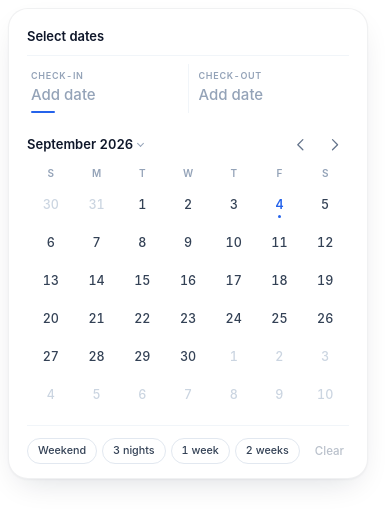
Scenario: DatePicker: selection › counts days instead of nights under `days` semantics
What coordinates should you click on to do the following:
click the 1st cell "4"
I would click on:
 (279, 204)
Its box is [257, 186, 302, 222].
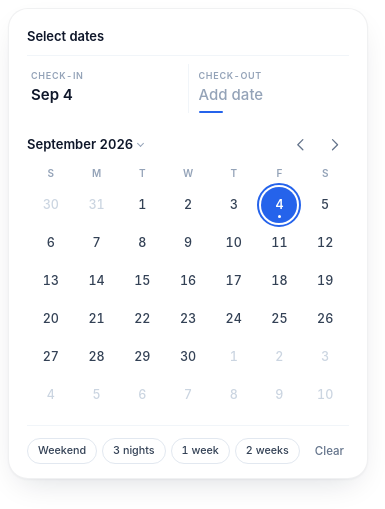
What coordinates should you click on to do the following:
click the cell "11"
I would click on:
 (279, 242)
Its box is [257, 224, 302, 260].
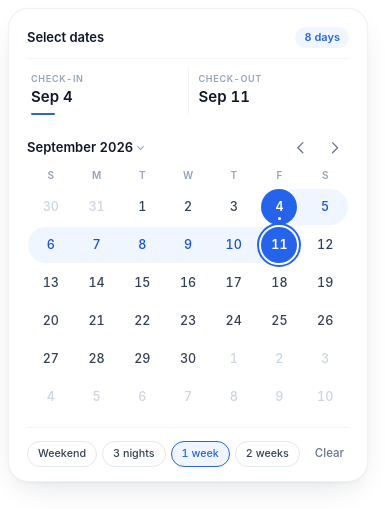
Result: the text with class "dpng-header__badge" reads "8 days" at [304, 30, 340, 44]
